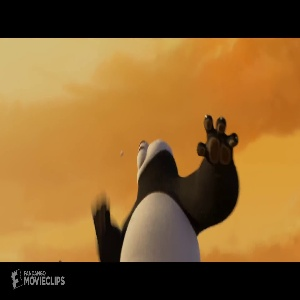po: (88, 112, 245, 262)
